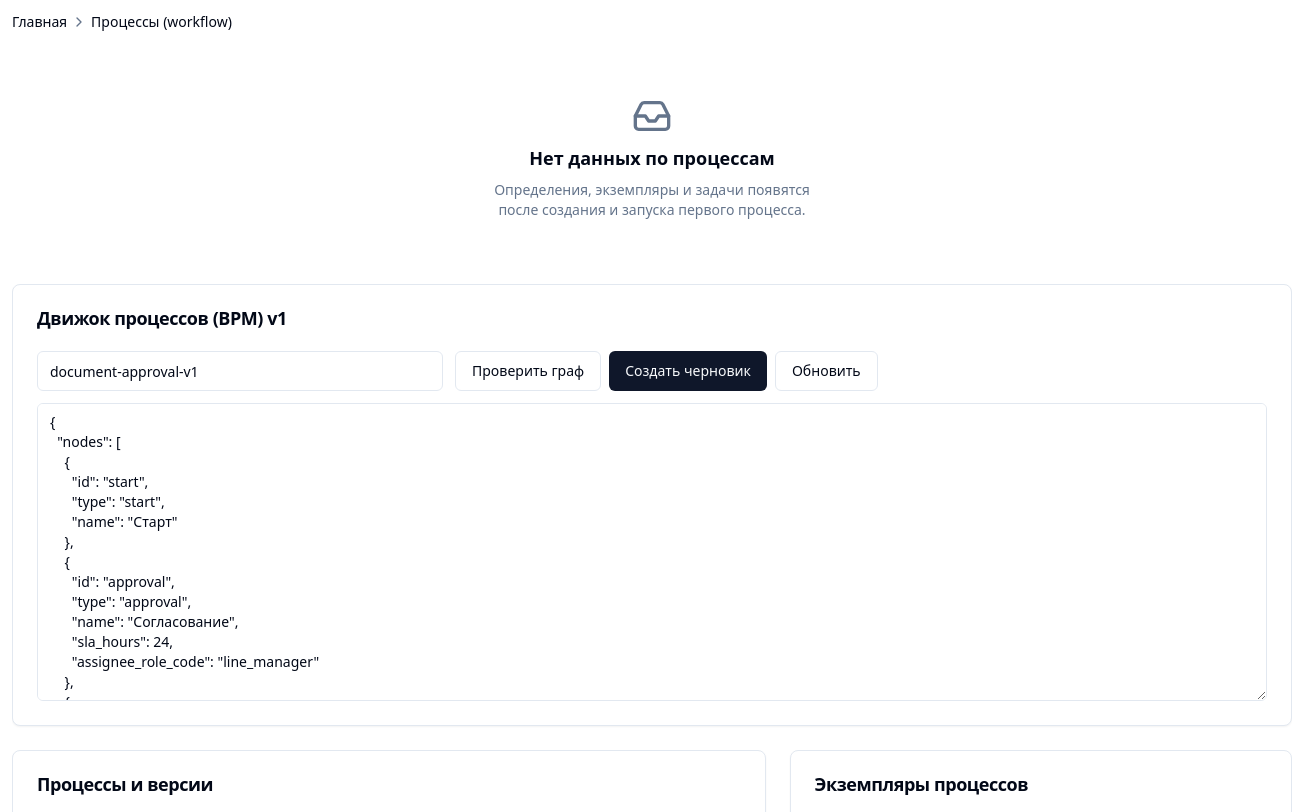
workflow action states › shows action error and keeps draft form when create workflow definition fails
Expected: the heading "Нет данных по процессам" is shown, [529,144,775,172]
Replace the text in the field with placeholder "Код процесса" with "custom-flow" at (240, 371), box [37,351,443,391]
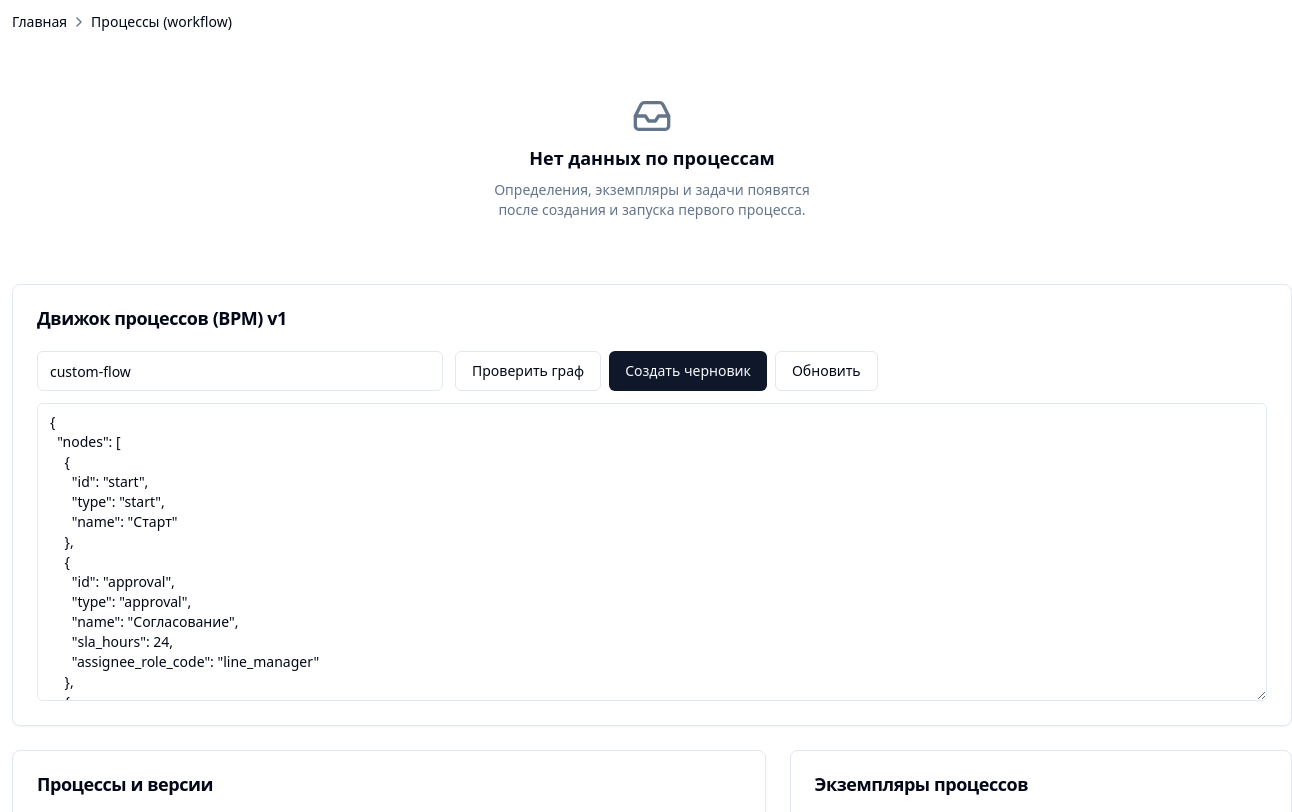
Click the button "Создать черновик" at (688, 371), box [609,351,767,391]
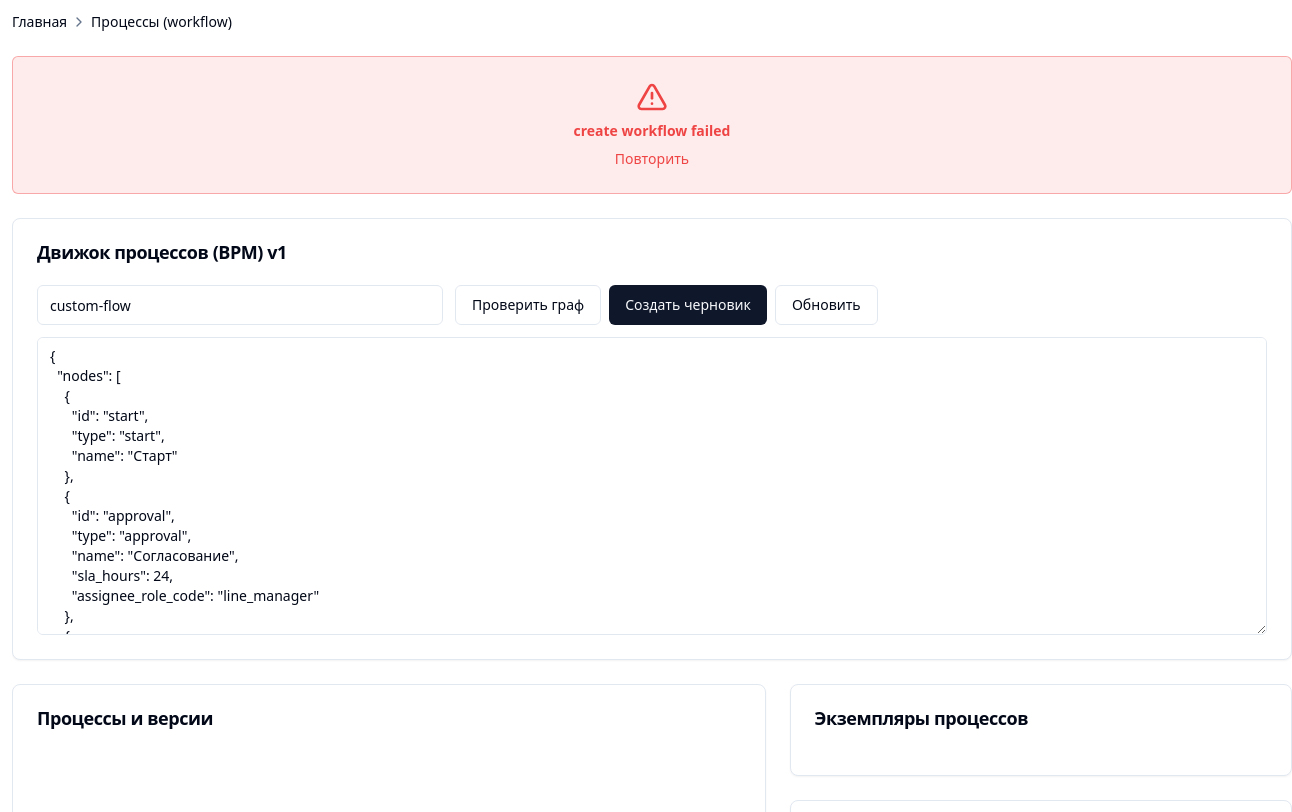
Expected: the message shows "create workflow failed", [574,121,730,140]
